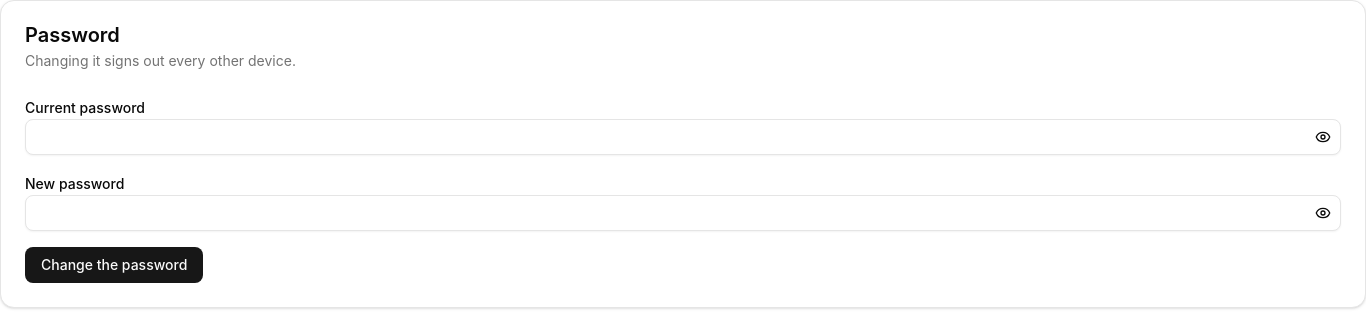
it: disables the button while the request runs
Type "old-password" into the password field labelled "Current password" at (683, 137), box [25,119,1341,155]
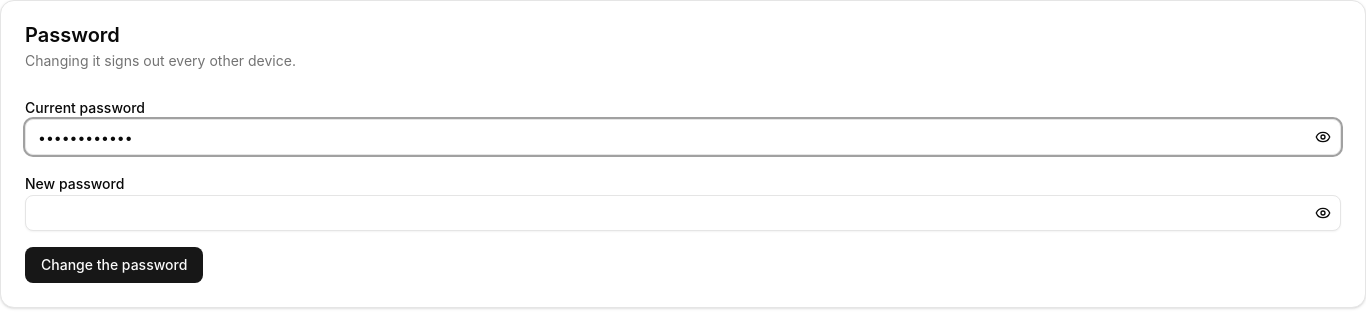
Type "new-password-1" into the password field labelled "New password" at (683, 213), box [25,195,1341,231]
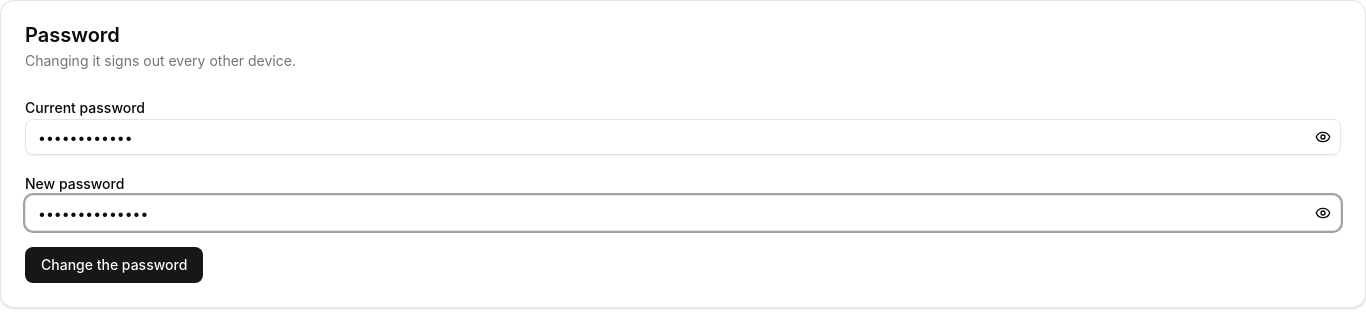
Click the button "Change the password" at (114, 265), box [25,247,203,283]
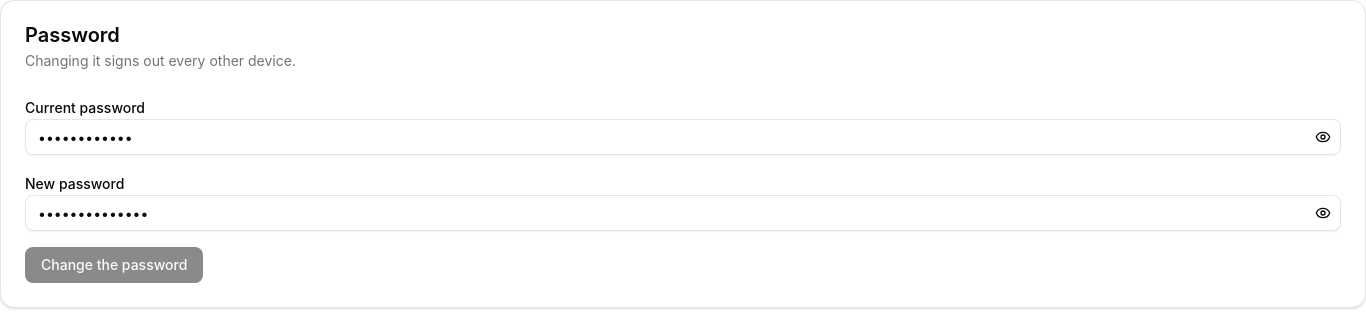
Now the button "Change the password" is disabled, box [25,247,203,283]
